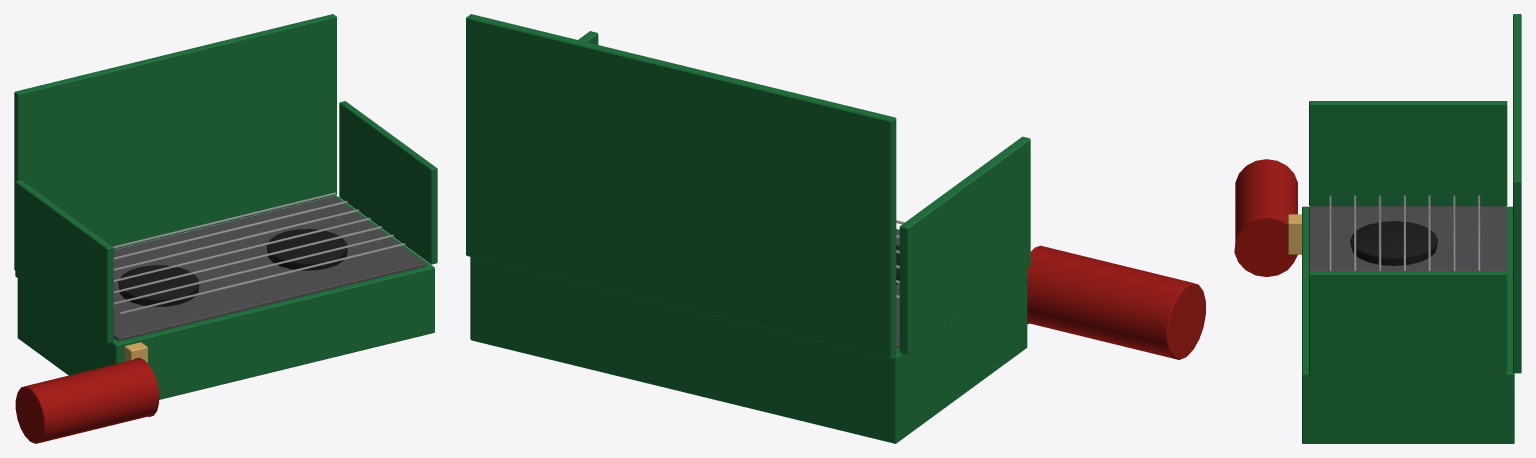
File: camp_stove.glb
The picture shows the model from 3 angles, left to right: view 1: azimuth 30°, elevation 25°; view 2: azimuth 150°, elevation 25°; view 3: azimuth 270°, elevation 25°; orthographic projection. The views are drawn at different scales.
Parts seen in each view (by area): view 1: camp_stove; view 2: camp_stove; view 3: camp_stove.
Part boxes in pixels (box(x1,y1,x2,y2)): camp_stove: box(14, 14, 437, 443); camp_stove: box(466, 14, 1205, 443); camp_stove: box(1234, 14, 1521, 443).
Bounding box in the file's own units: 0.75 × 0.41 × 0.4056.
